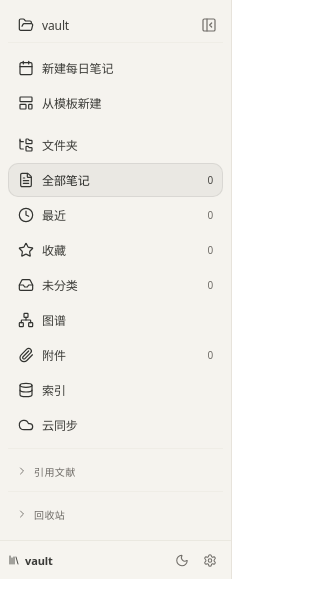
Scenario: sidebar icon drawer › keeps navigation icons and commands available when collapsed, and restores labels
Expected: the text "文件夹" is shown, [42,137,78,154]
Click the button with test id "sidebar-drawer-toggle" at (209, 25), box [195,10,223,40]
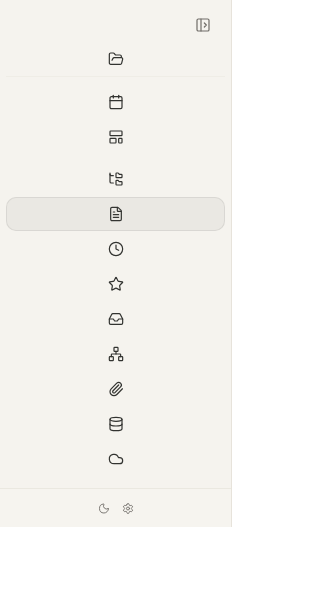
Expected: the 4th icon with class "nav-icon" is shown, [108,171,124,187]
Now the element with class "sidebar" has class "compact"
Now the button with class "nav-item" has attribute title, box [6,162,225,196]
Click the button with test id "sidebar-drawer-toggle" at (203, 25), box [189,10,217,40]
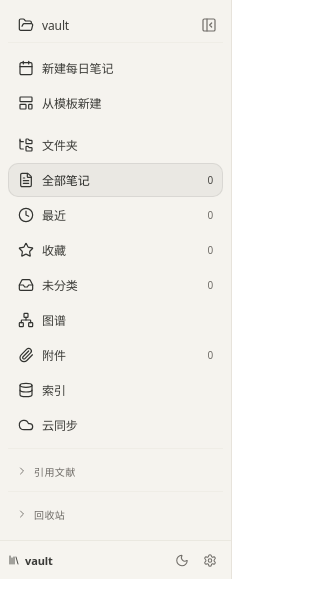
Now the text "文件夹" is shown, box [42,137,78,154]
